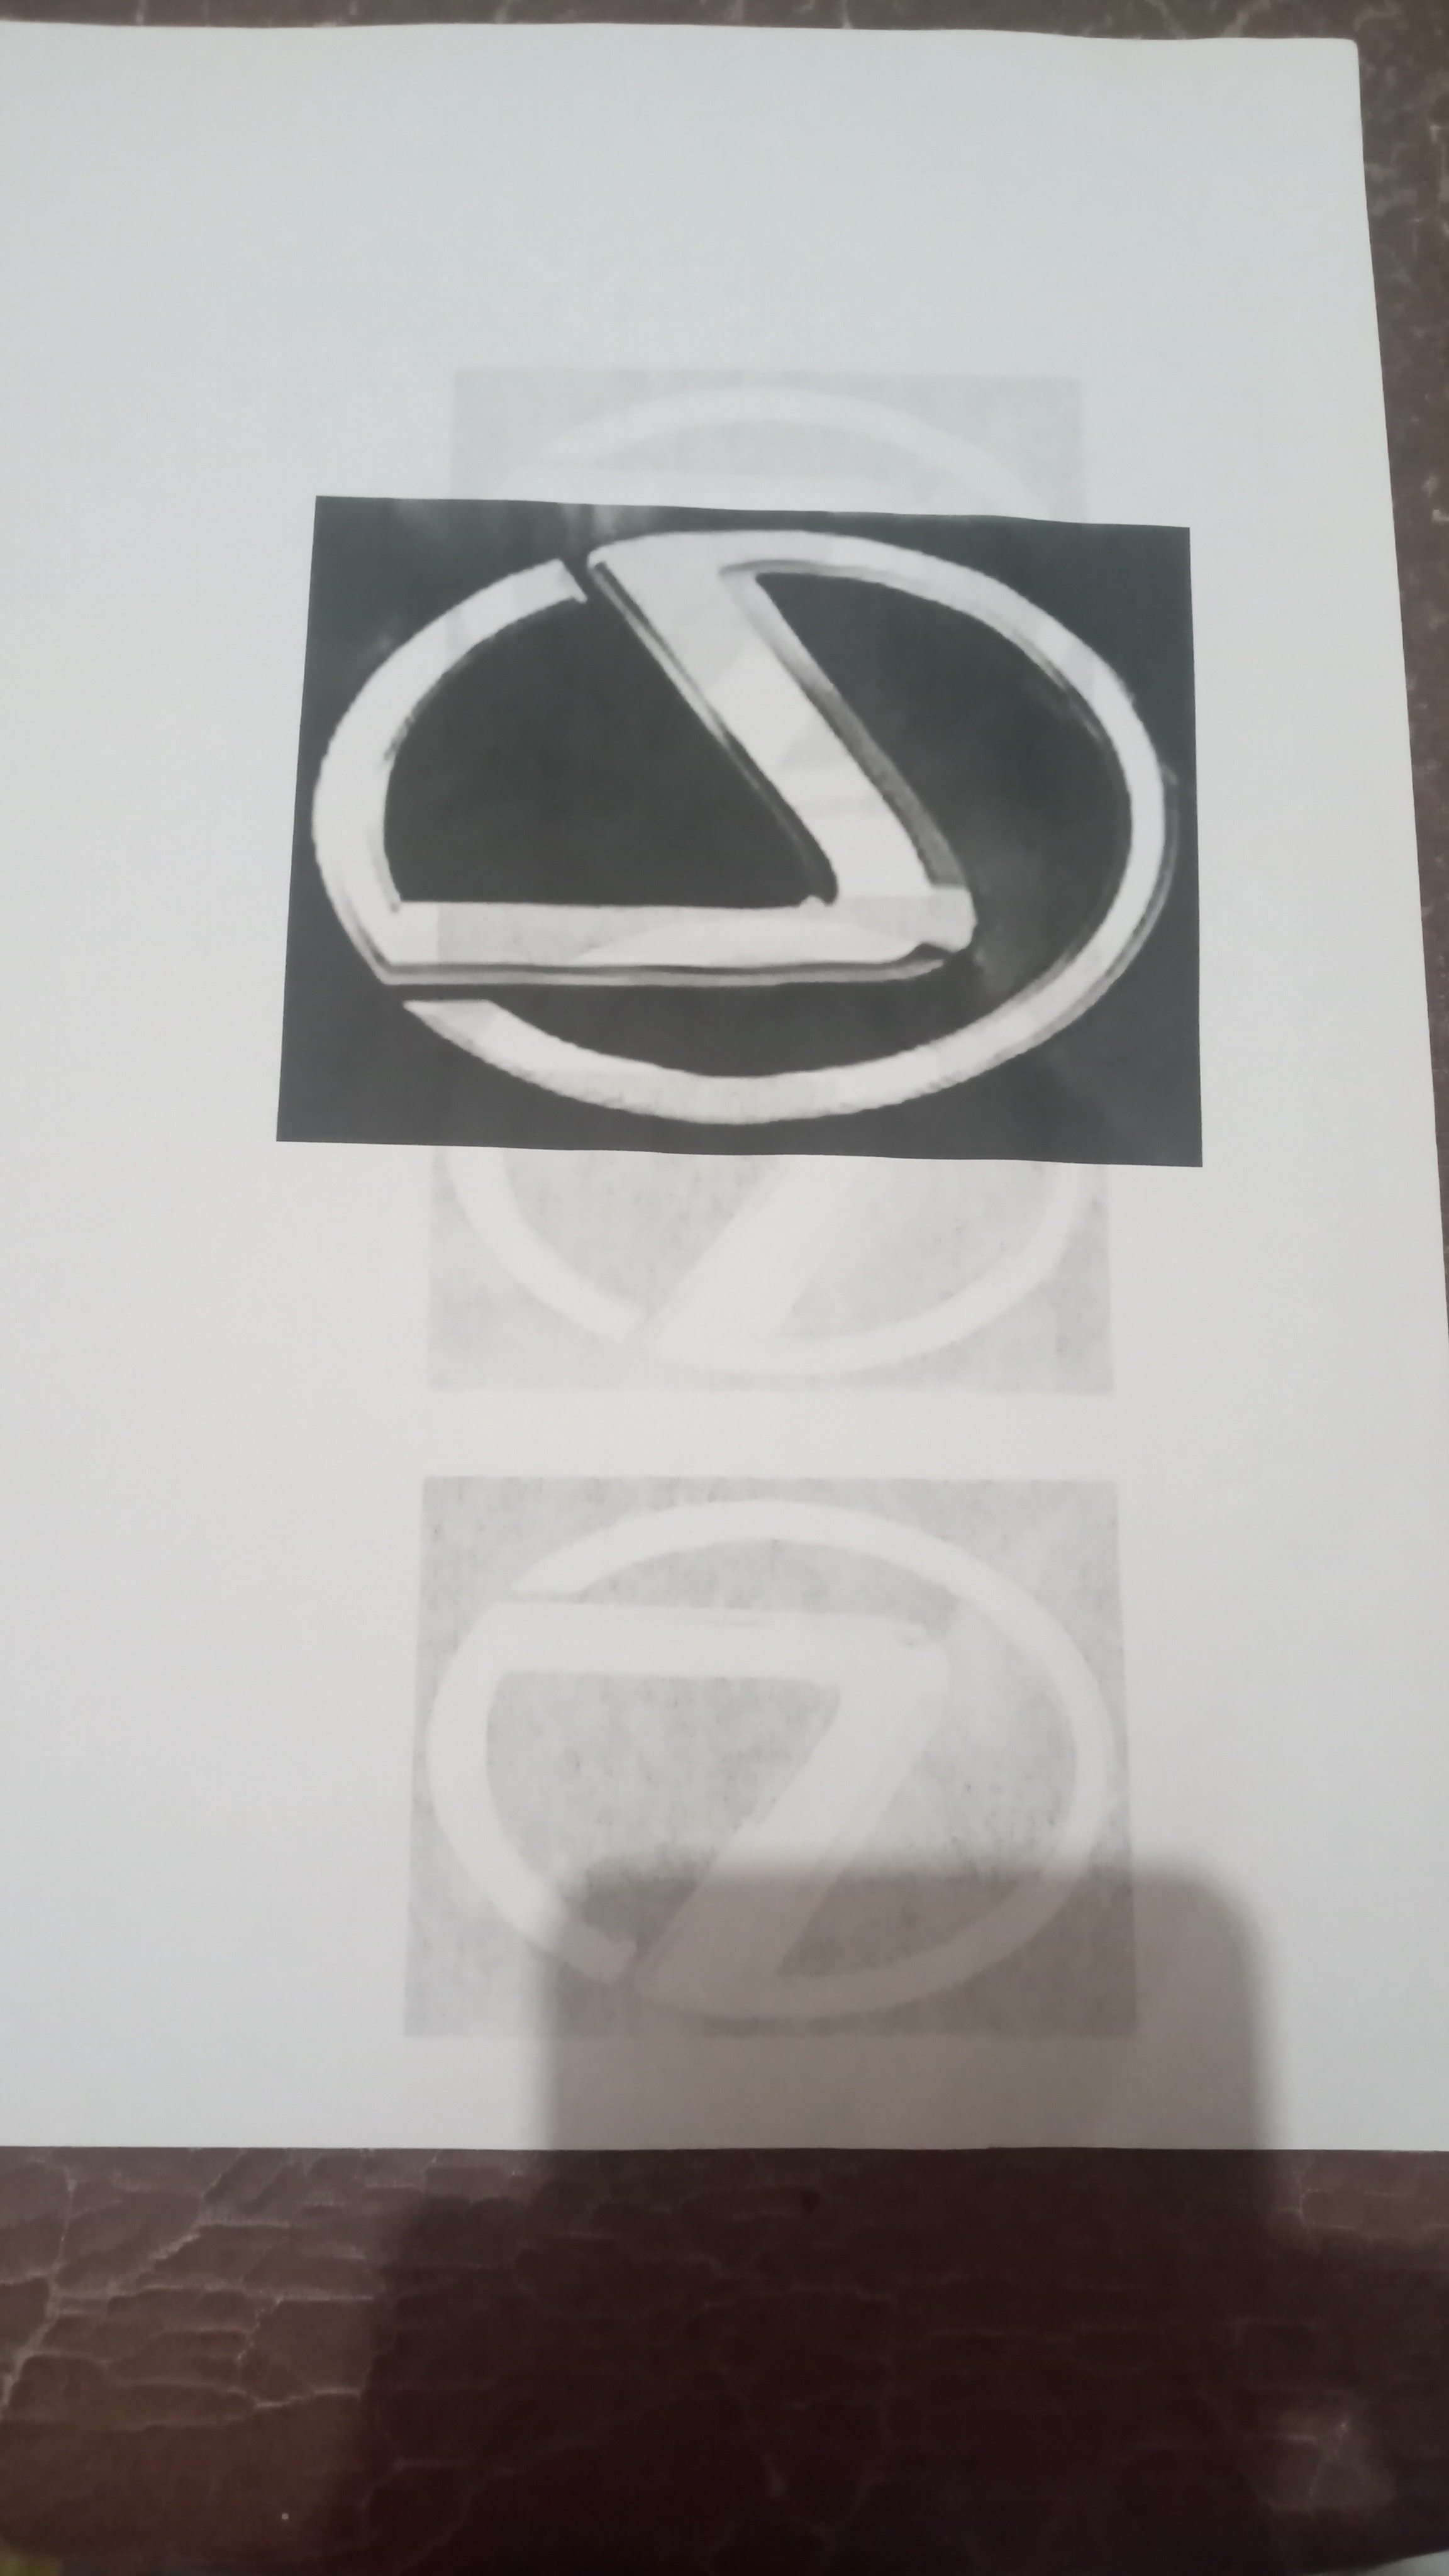Lexus: (310, 511, 1171, 1155)
